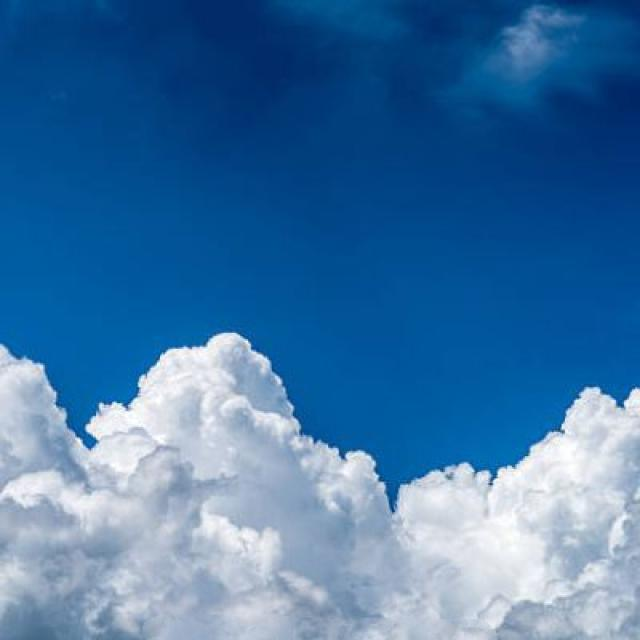Cu: (1, 242, 631, 640)
